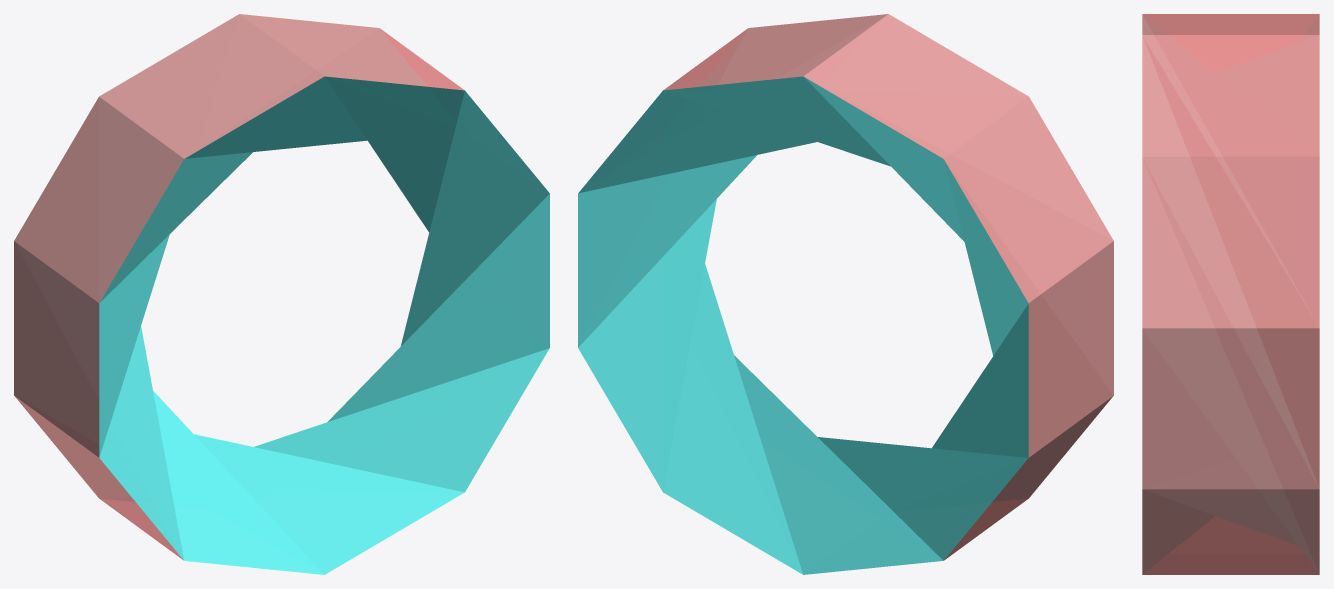
Rendered from DecagonalIrisToroid.obj.
The picture shows the model from 3 angles, left to right: view 1: azimuth 30°, elevation 25°; view 2: azimuth 150°, elevation 25°; view 3: azimuth 270°, elevation 25°; orthographic projection. The views are drawn at different scales.
Bounding box in the file's own units: 2.44 × 2.58 × 0.8.
